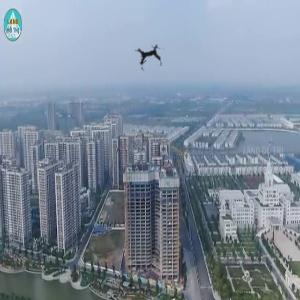drone: (124, 28, 180, 84)
